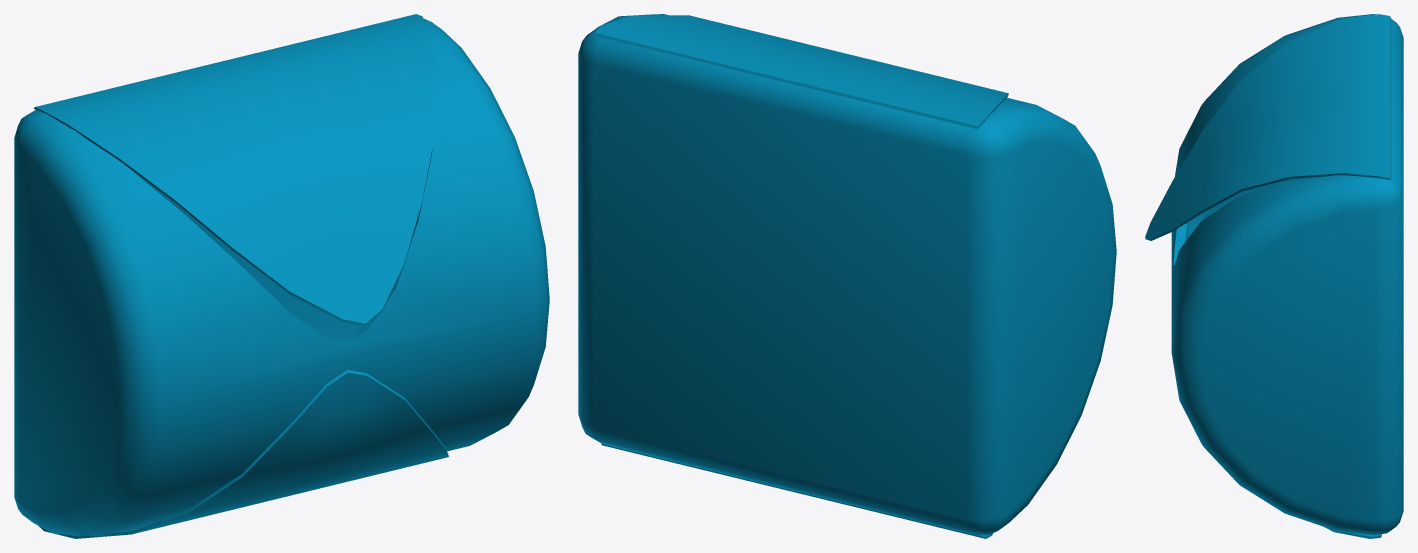
The model's file is MAIL.34cc258d.glb.
The picture shows the model from 3 angles, left to right: view 1: azimuth 30°, elevation 25°; view 2: azimuth 150°, elevation 25°; view 3: azimuth 270°, elevation 25°; orthographic projection. The views are drawn at different scales.
Parts seen in each view (by area): view 1: Mailbox,_colorize_; view 2: Mailbox,_colorize_; view 3: Mailbox,_colorize_.
Boxes of the visible parts, bbox=[...] form: Mailbox,_colorize_: bbox=[14, 14, 549, 538]; Mailbox,_colorize_: bbox=[578, 14, 1116, 538]; Mailbox,_colorize_: bbox=[1145, 14, 1403, 538].
Size of the model in its own units: 0.2568 by 0.2396 by 0.1545.
